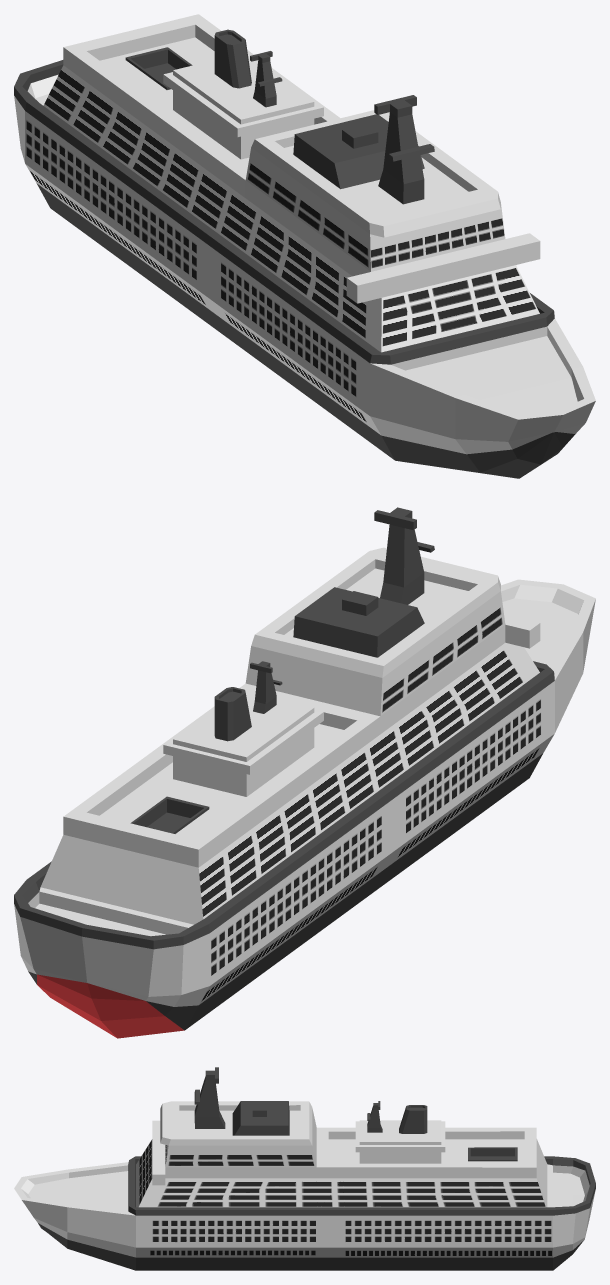
Rendered from Cruise Ship.glb.
The picture shows the model from 3 angles, top to bottom: view 1: azimuth 30°, elevation 25°; view 2: azimuth 150°, elevation 25°; view 3: azimuth 270°, elevation 25°; orthographic projection. The views are drawn at different scales.
Visible parts, largest first — view 1: CruiseShip; view 2: CruiseShip; view 3: CruiseShip.
Part boxes in pixels (x1,y1,x2,y2): CruiseShip: (14,14,595,478); CruiseShip: (14,507,595,1038); CruiseShip: (14,1067,595,1270).
Bounding box in the file's own units: 4 × 6.6 × 18.05.
Materials: 4 (1 with a texture image).
